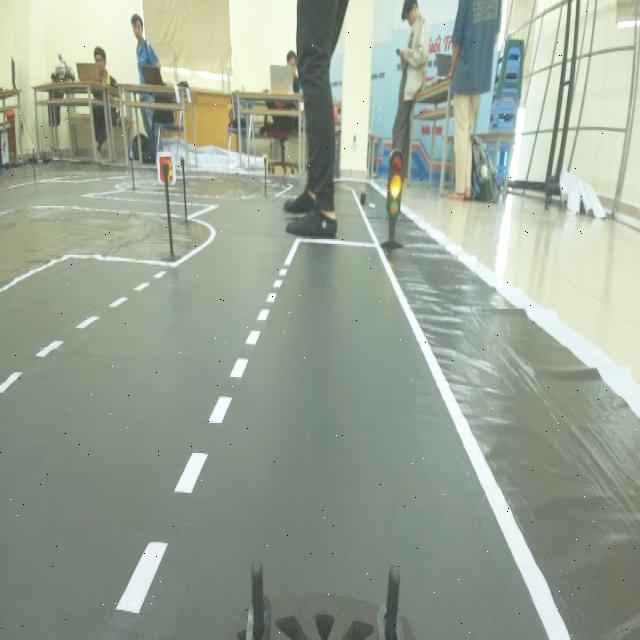trafficlight: (374, 145, 414, 257)
